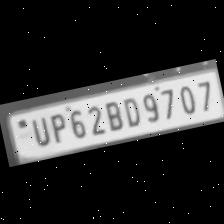0: (172, 81, 198, 116)
2: (82, 100, 106, 136)
6: (63, 104, 87, 140)
7: (192, 77, 218, 112), (154, 84, 178, 120)
9: (137, 87, 162, 123)
B: (99, 96, 124, 132)
D: (118, 92, 142, 128)
P: (44, 108, 68, 144)
U: (25, 113, 51, 147)
